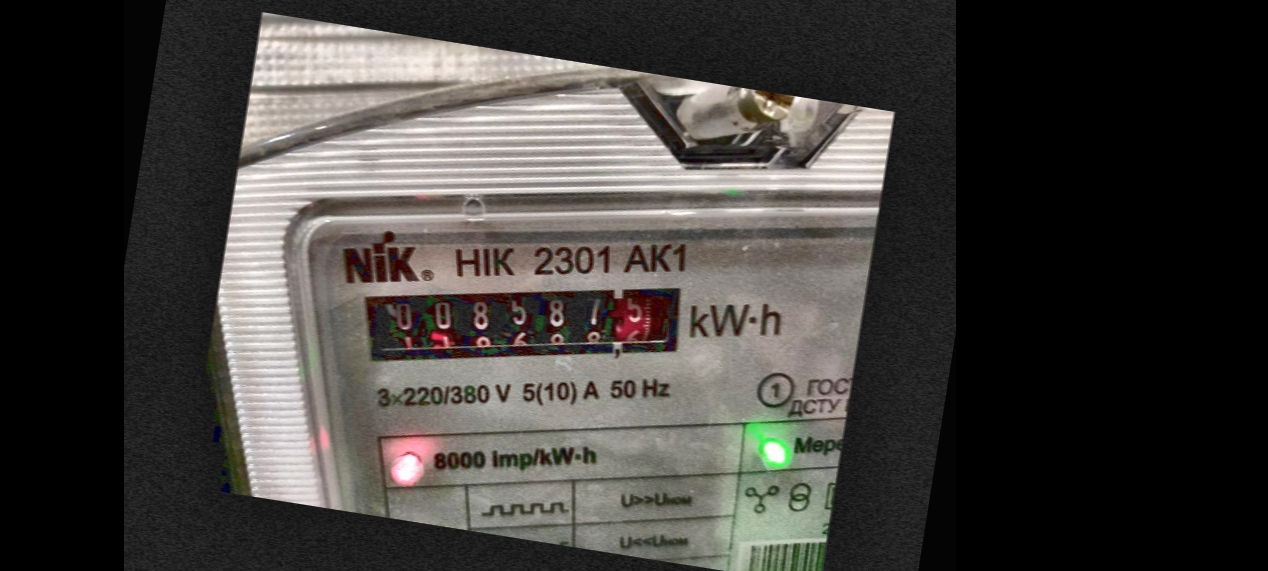0: (427, 294, 458, 332), (389, 296, 419, 332)
5: (505, 293, 532, 327), (621, 289, 647, 323)
6: (622, 325, 643, 344)
7: (580, 292, 607, 329)
8: (467, 296, 495, 332), (542, 293, 570, 329)
screen: (346, 237, 708, 412)
